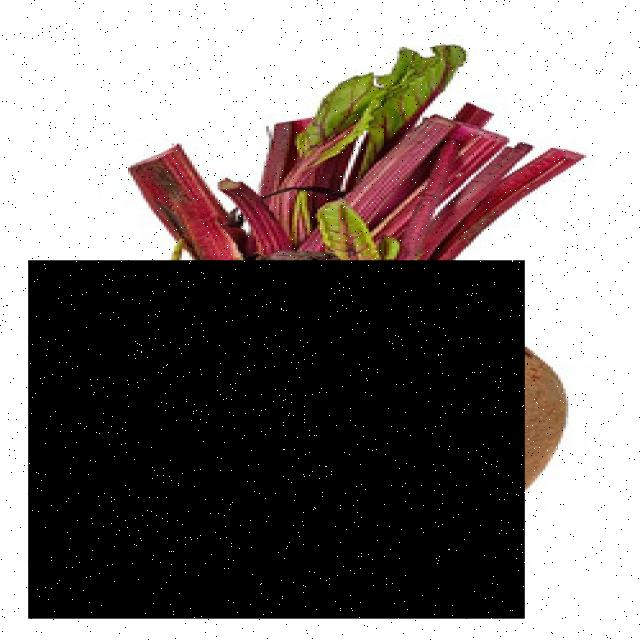Beetroot: (30, 261, 528, 619)
